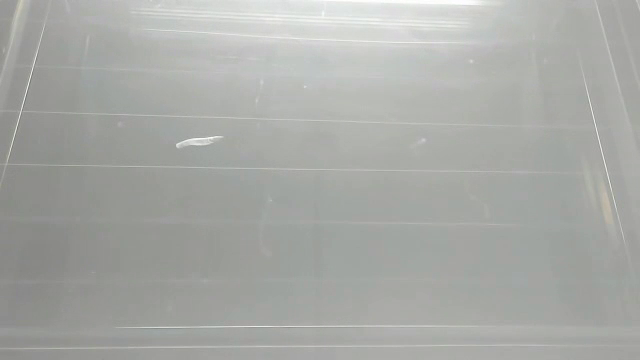alpha: (173, 133, 228, 152)
